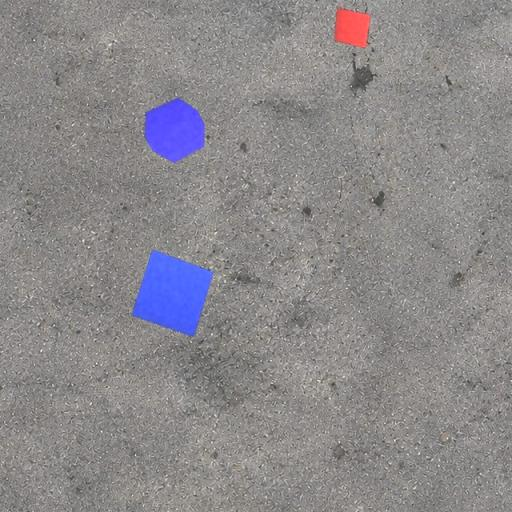BLUE_SQUARE: (132, 249, 214, 338)
RED_SQUARE: (334, 7, 371, 49)
